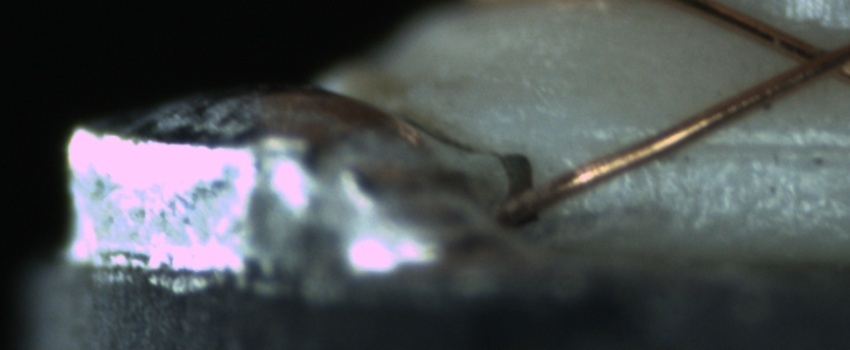CL: (776, 32, 848, 86)
DL: (612, 111, 847, 178)
